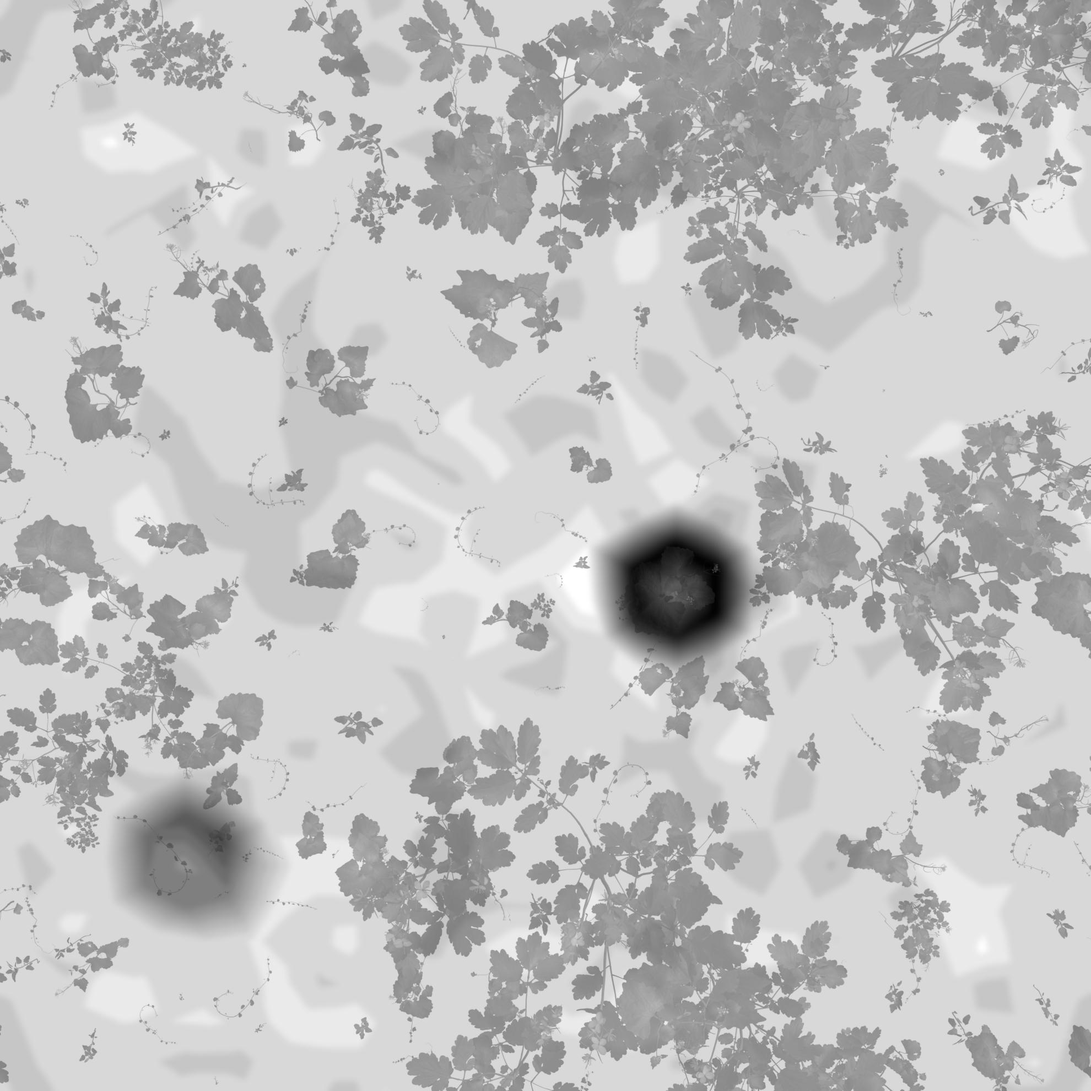landmine: (600, 511, 758, 658), (120, 789, 277, 931)
